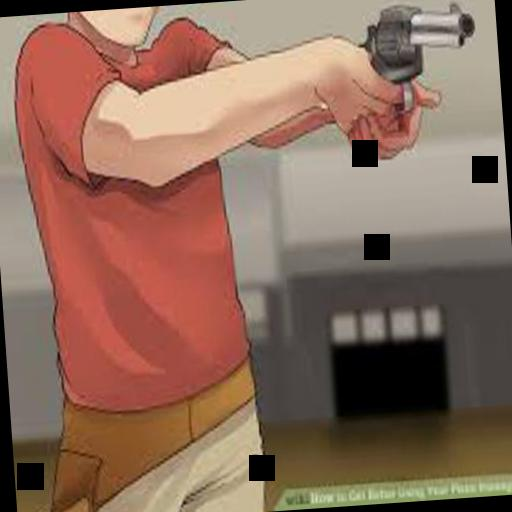Handgun: (342, 0, 491, 145)
